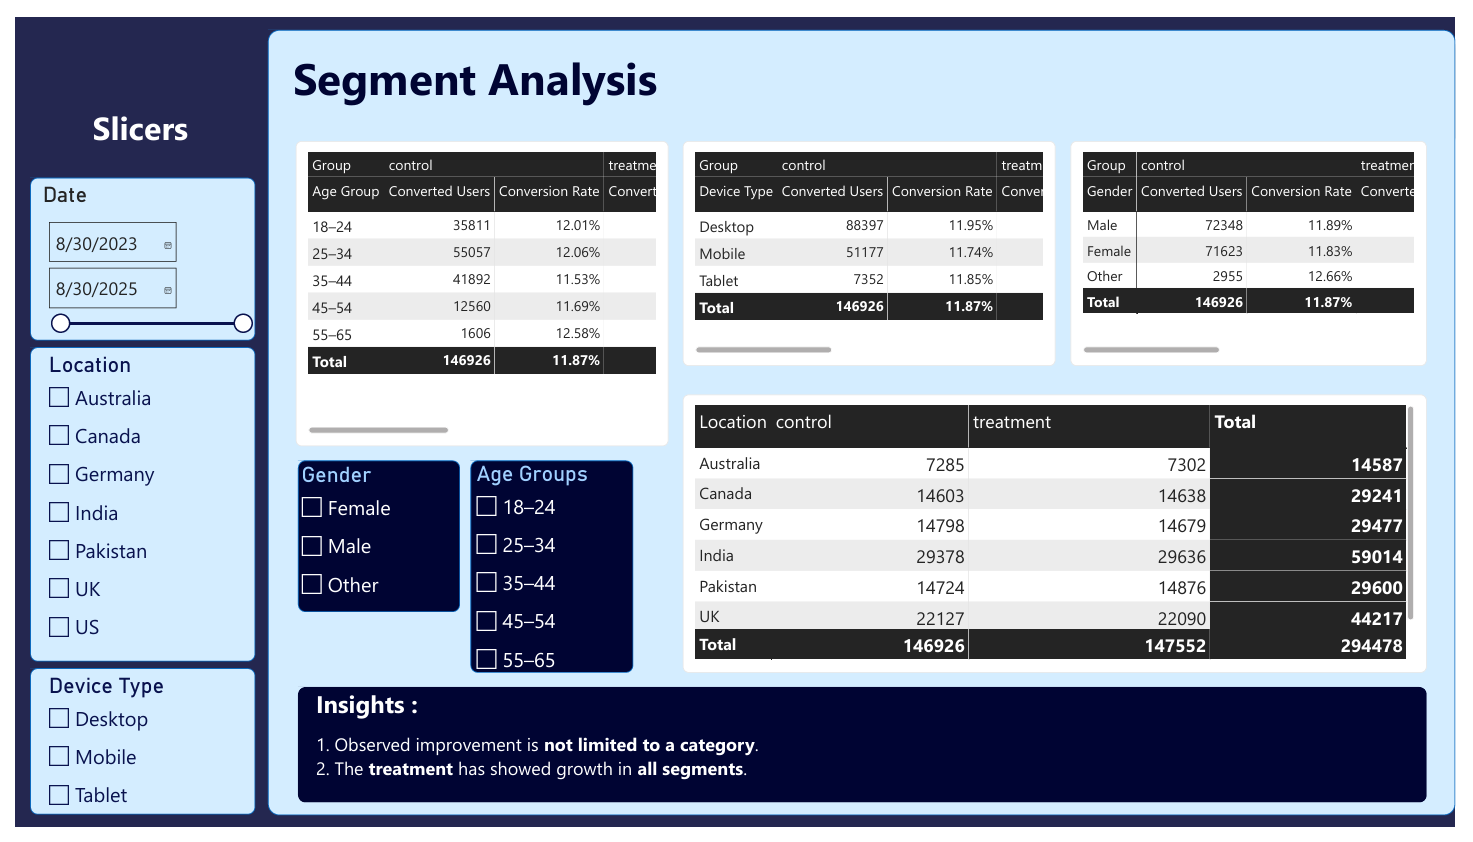

The dashboard page shown, as its layout file describes it:
{"tool":"powerbi","page":{"name":"Segment Performance Analysis","canvas":[1920,1080],"ordinal":2},"visuals":[{"type":"shape","box":[336.2,15.9,1583.1,1047.1],"z":0},{"type":"textbox","box":[368.6,40.4,758.7,83.2],"z":1000},{"type":"pivotTable","fields":{"Rows":["AB Testing Data.device_type"],"Columns":["AB Testing Data.group"],"Values":["CountNonNull(AB Testing Data.converted)","AB Testing Data.Conversion Rate"]},"box":[889.5,164.1,497,299.7],"z":2000},{"type":"shape","box":[19,213.3,299.7,216.4],"z":3000},{"type":"slicer","title":"Date","fields":{"Values":["AB Testing Data.date"]},"box":[35.7,218,283,216.4],"z":4000},{"type":"shape","box":[19,867.1,299.7,195],"z":5000},{"type":"shape","box":[19,439.4,299.7,418.6],"z":6000},{"type":"textbox","box":[102.3,116.5,166.5,71.3],"z":7000},{"type":"slicer","fields":{"Values":["AB Testing Data.location"]},"box":[35.7,444.7,283,418.6],"z":8000},{"type":"slicer","fields":{"Values":["AB Testing Data.device_type"]},"box":[35.7,872.8,266.4,195],"z":9000},{"type":"shape","box":[375.8,589.7,216.4,202.1],"z":10000},{"type":"slicer","fields":{"Values":["AB Testing Data.gender"]},"box":[373.4,592.1,178.4,202.1],"z":11000},{"type":"shape","box":[606.4,589.8,216.4,283],"z":12000},{"type":"slicer","fields":{"Values":["AB Testing Data.Age Group"]},"box":[606.4,589.8,216.4,302],"z":13000},{"type":"pivotTable","fields":{"Columns":["AB Testing Data.group"],"Values":["CountNonNull(AB Testing Data.converted)","AB Testing Data.Conversion Rate"],"Rows":["AB Testing Data.gender"]},"box":[1405.5,164.1,475.6,299.7],"z":14000},{"type":"pivotTable","fields":{"Columns":["AB Testing Data.group"],"Values":["CountNonNull(AB Testing Data.converted)","AB Testing Data.Conversion Rate"],"Rows":["AB Testing Data.Age Group"]},"box":[373.4,164.1,497,406.7],"z":15000},{"type":"shape","box":[375.8,891.8,1505.4,154.6],"z":16000},{"type":"textbox","box":[100,100,300,300],"z":17000},{"type":"textbox","box":[399.5,892.2,304.4,59.5],"z":18000},{"type":"pivotTable","fields":{"Columns":["AB Testing Data.group"],"Values":["CountNonNull(AB Testing Data.converted)"],"Rows":["AB Testing Data.location"]},"box":[889.5,501.8,991.7,371],"z":19000},{"type":"textbox","box":[399.5,951.6,1460.2,69],"z":20000}]}

Visuals, with their boxes in screenshot pixels (x1, y1, x2, y2), scaled from the page's 1920x1080 canvas onto the 1473x842 screenshot:
shape: (258, 12, 1472, 829)
textbox: (283, 31, 865, 96)
pivotTable - AB Testing Data.device_type x AB Testing Data.group: (682, 128, 1064, 362)
shape: (15, 166, 245, 335)
"Date" slicer: (27, 170, 245, 339)
shape: (15, 676, 245, 828)
shape: (15, 343, 245, 669)
textbox: (78, 91, 206, 146)
slicer - AB Testing Data.location: (27, 347, 245, 673)
slicer - AB Testing Data.device_type: (27, 680, 232, 832)
shape: (288, 460, 454, 617)
slicer - AB Testing Data.gender: (286, 462, 423, 619)
shape: (465, 460, 631, 680)
slicer - AB Testing Data.Age Group: (465, 460, 631, 695)
pivotTable - AB Testing Data.group x CountNonNull(AB Testing Data.converted): (1078, 128, 1443, 362)
pivotTable - AB Testing Data.group x CountNonNull(AB Testing Data.converted): (286, 128, 668, 445)
shape: (288, 695, 1443, 816)
textbox: (77, 78, 307, 312)
textbox: (306, 696, 540, 742)
pivotTable - AB Testing Data.group x CountNonNull(AB Testing Data.converted): (682, 391, 1443, 680)
textbox: (306, 742, 1427, 796)
